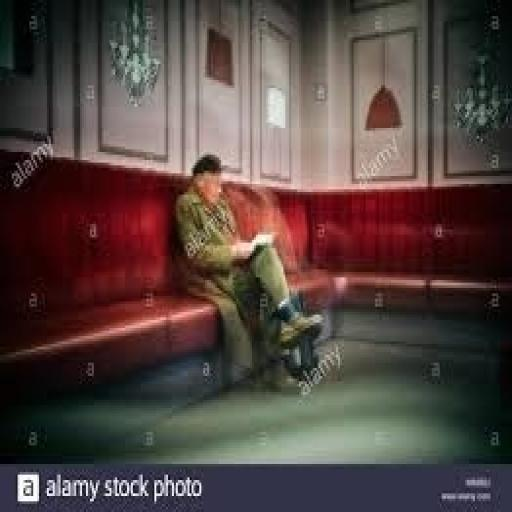sitting: (170, 150, 344, 398)
